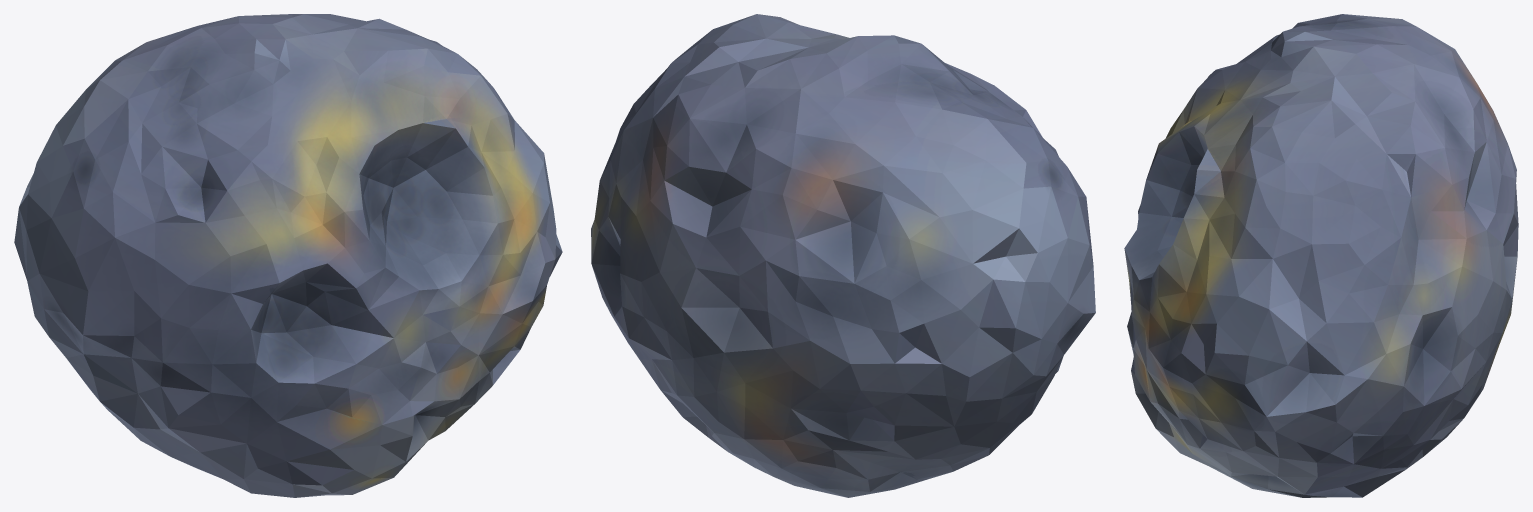
File: psyche_model 1.fbx
The picture shows the model from 3 angles, left to right: view 1: azimuth 30°, elevation 25°; view 2: azimuth 150°, elevation 25°; view 3: azimuth 270°, elevation 25°; orthographic projection. The views are drawn at different scales.
Visible parts, largest first — view 1: psyche_low_poly; view 2: psyche_low_poly; view 3: psyche_low_poly.
Boxes of the visible parts, x1=… form: psyche_low_poly: x1=14, y1=14, x2=562, y2=497; psyche_low_poly: x1=591, y1=14, x2=1095, y2=497; psyche_low_poly: x1=1124, y1=14, x2=1518, y2=497.
Bounding box in the file's own units: 291 × 255 × 213.
1 material, 1 textured.
